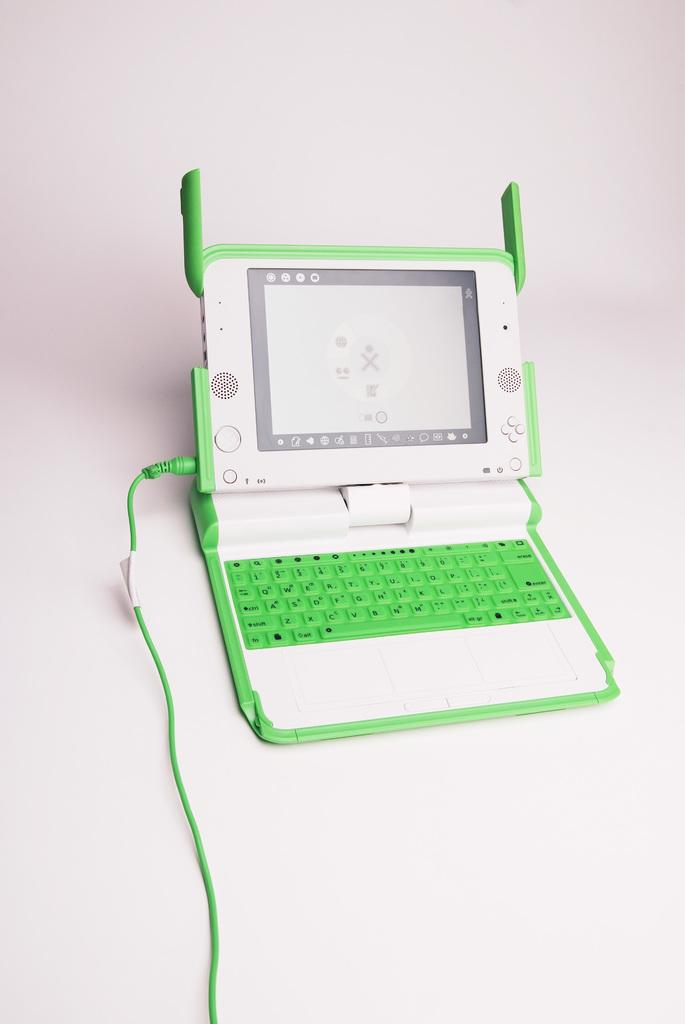Computer-keyboard: (221, 534, 569, 653)
